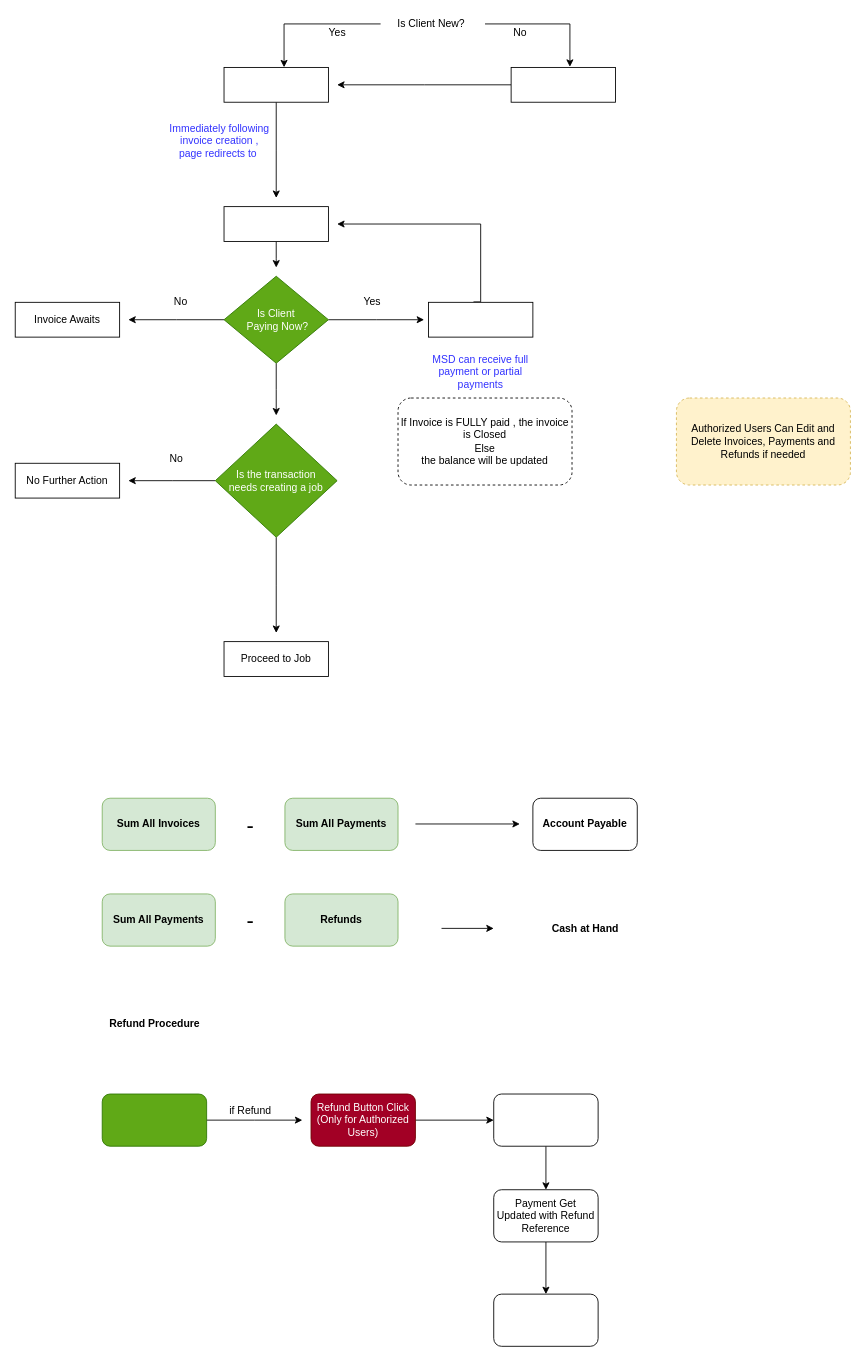
The diagram is 866 pixels wide and 1362 high, and some of its shapes have lost their labels. Each missing label, with the box of its shape:
A refund record will be created: (493, 1293, 598, 1346)
Add Client: (510, 67, 616, 102)
Create Invoice: (223, 67, 328, 102)
Enter Refund Input Save: (493, 1093, 598, 1146)
Payment View: (101, 1093, 207, 1146)
Receive Payments: (428, 301, 533, 337)
Single Client View: (223, 206, 328, 241)
